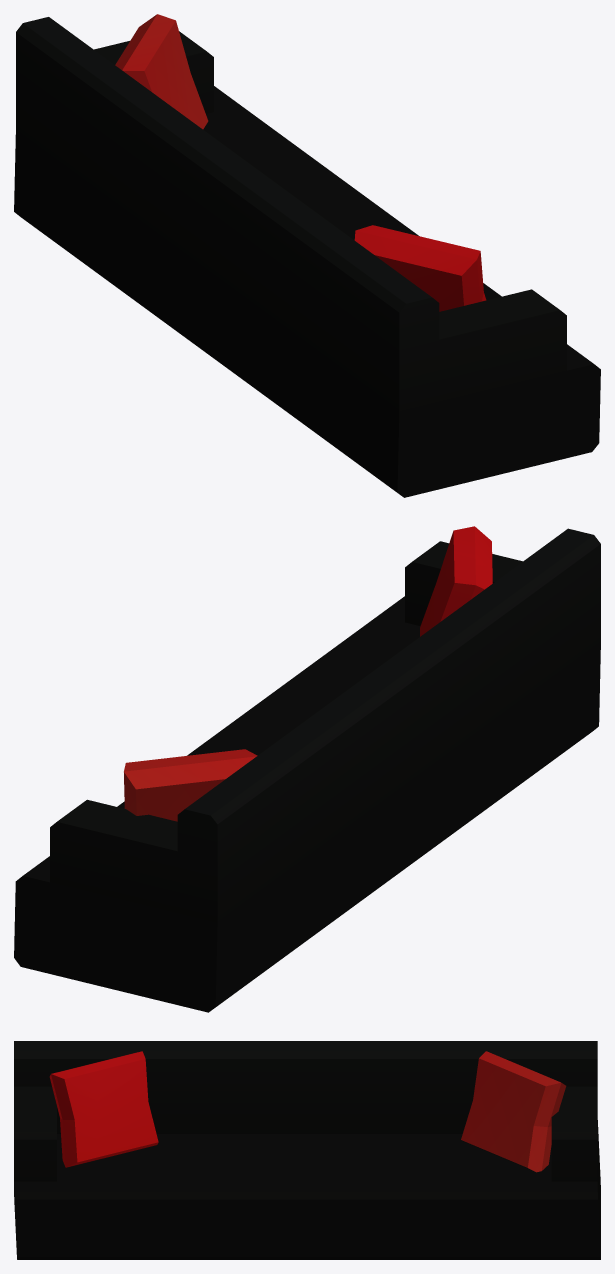
The model's file is Couch1.fbx.
3 renders of one model, top to bottom at view 1: azimuth 30°, elevation 25°; view 2: azimuth 150°, elevation 25°; view 3: azimuth 270°, elevation 25°, orthographic. The views are drawn at different scales.
Visible parts, largest first — view 1: Cube; view 2: Cube; view 3: Cube.
Part boxes in pixels (bbox=[...]): Cube: bbox=[14, 14, 600, 497]; Cube: bbox=[14, 526, 600, 1012]; Cube: bbox=[14, 1041, 600, 1259].
Size of the model in its own units: 278 by 262 by 920.
